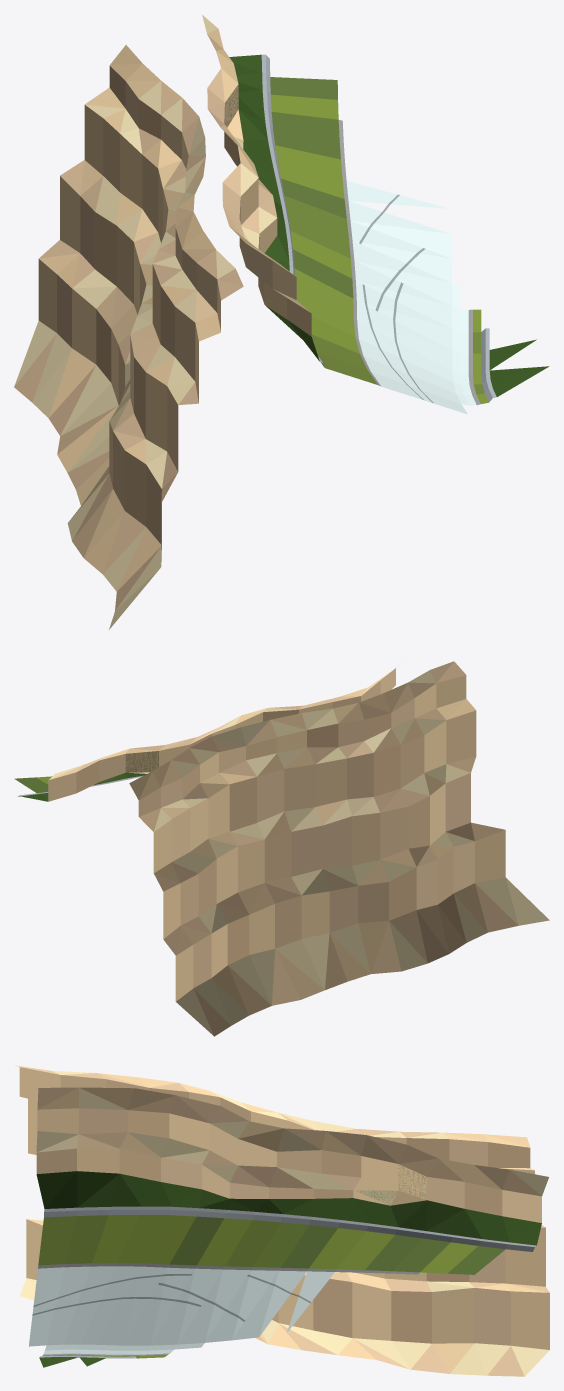
The picture shows the model from 3 angles, top to bottom: view 1: azimuth 30°, elevation 25°; view 2: azimuth 150°, elevation 25°; view 3: azimuth 270°, elevation 25°; orthographic projection. The views are drawn at different scales.
Parts seen in each view (by area): view 1: O22E07; view 2: O22E07; view 3: O22E07.
Boxes of the visible parts, bbox=[...] form: O22E07: bbox=[14, 15, 549, 629]; O22E07: bbox=[14, 661, 549, 1036]; O22E07: bbox=[15, 1065, 549, 1376].
Size of the model in its own units: 133 by 82 by 137.
